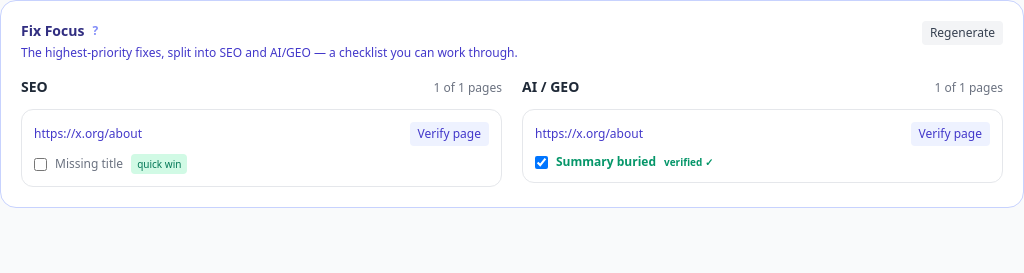
Test: FixFocusPanel › surfaces newly_found from a verify as a Regenerate prompt (sweep #3)
Click the 1st button "Verify page". click: [449, 134]
box: 410,122 -> 489,146
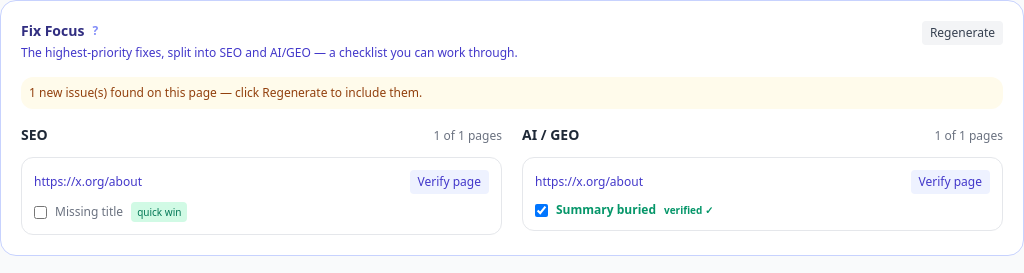
Now the text "Regenerate to include them" is shown, box 29,84 -> 422,101
